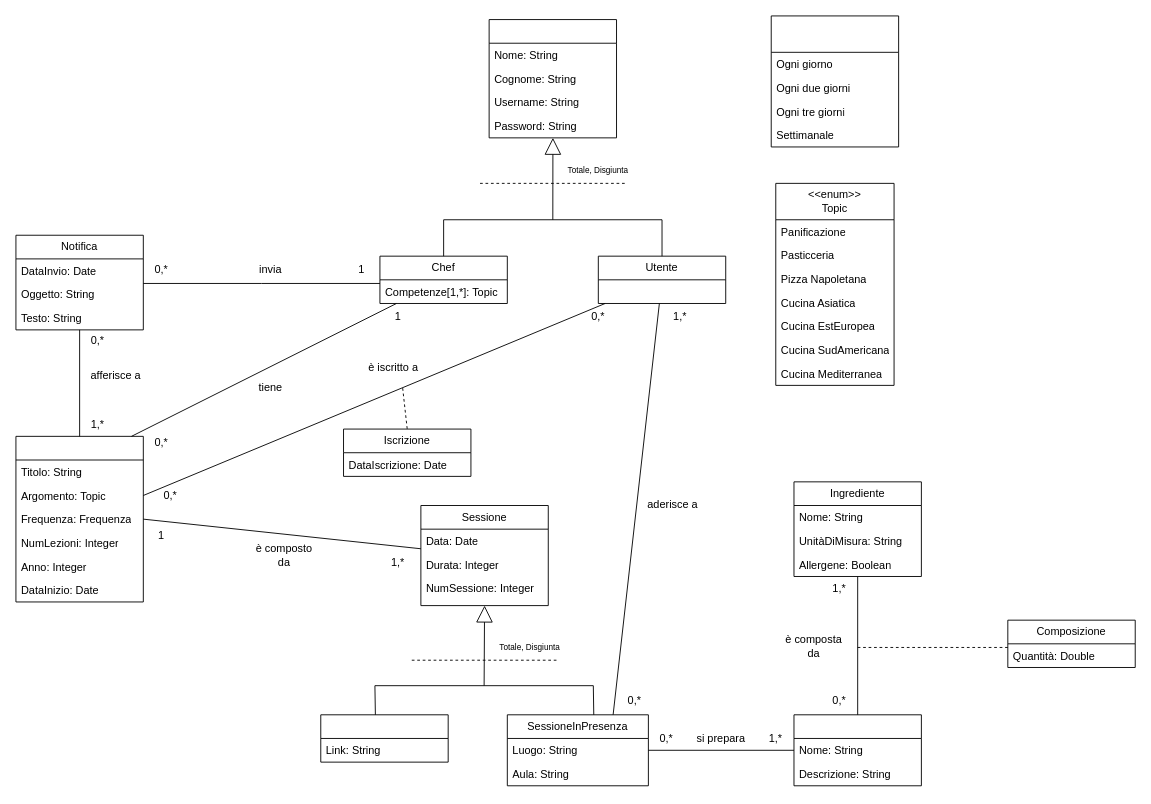
Some shapes in this 1151 by 804 pixel diagram are drawn without their labels. The shapes that lost their labels are listed below. From the top down, each one's box as (x1, y1, x2, y2) in pixels, then its label:
(488, 19, 617, 138): Persona
(770, 15, 899, 147): <<enum>> Frequenza
(15, 435, 143, 602): Corso
(320, 714, 448, 762): SessioneOnline
(793, 714, 921, 786): Ricetta
